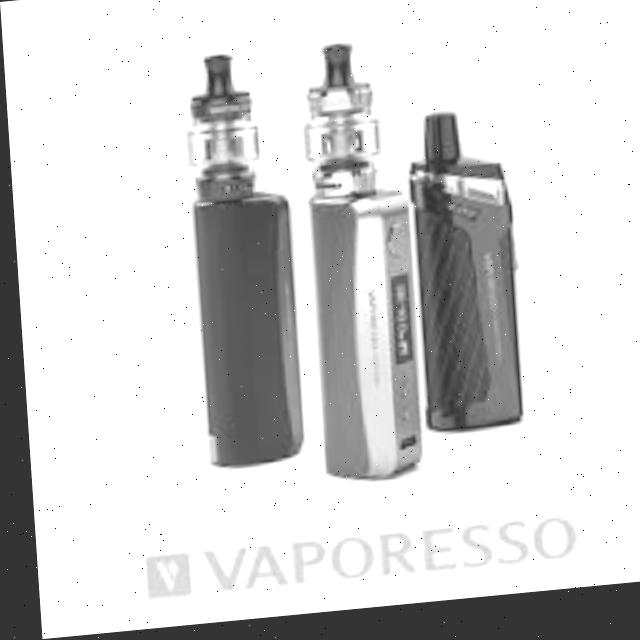vape: (296, 43, 417, 489), (179, 55, 300, 477), (405, 113, 522, 441)
